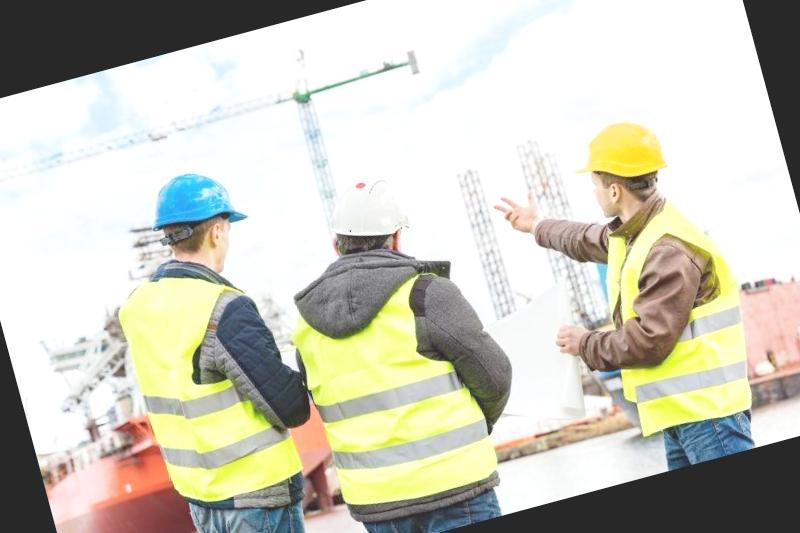helmet: (132, 159, 256, 259), (564, 112, 677, 208), (314, 163, 420, 258)
person: (257, 145, 552, 533), (73, 150, 356, 533), (522, 99, 786, 485)
